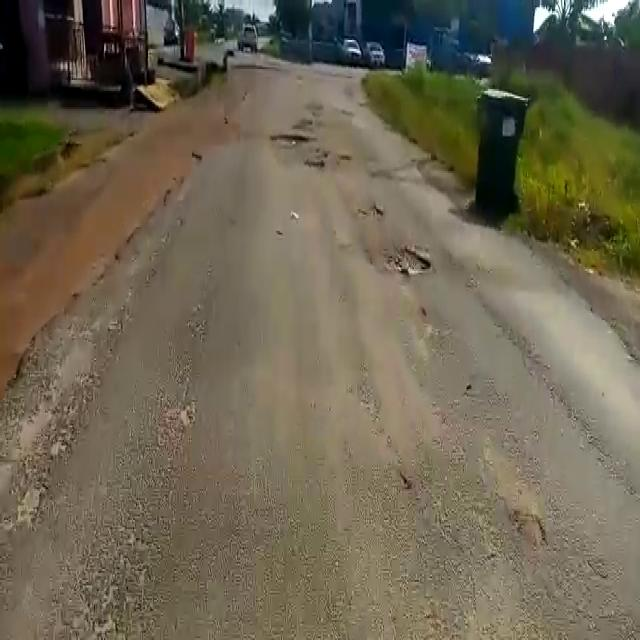Pothole: (370, 242, 435, 280), (268, 130, 310, 146), (302, 157, 324, 172)
